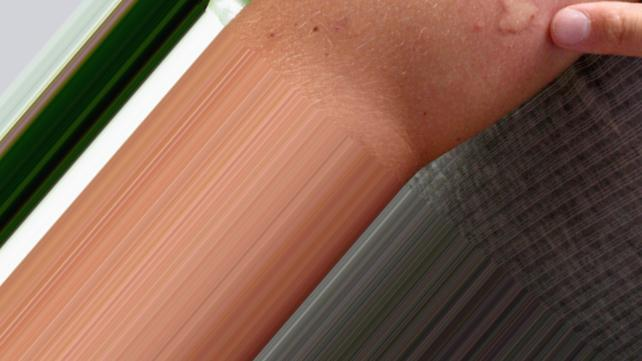Mosquito: (494, 0, 538, 32)
